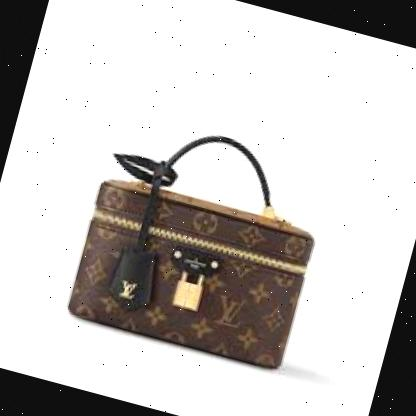bag: (48, 98, 346, 385)
